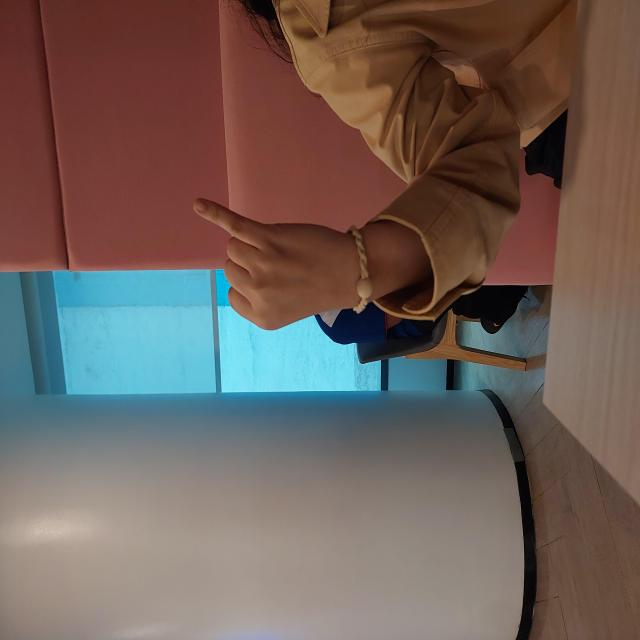J: (304, 186, 448, 376)
